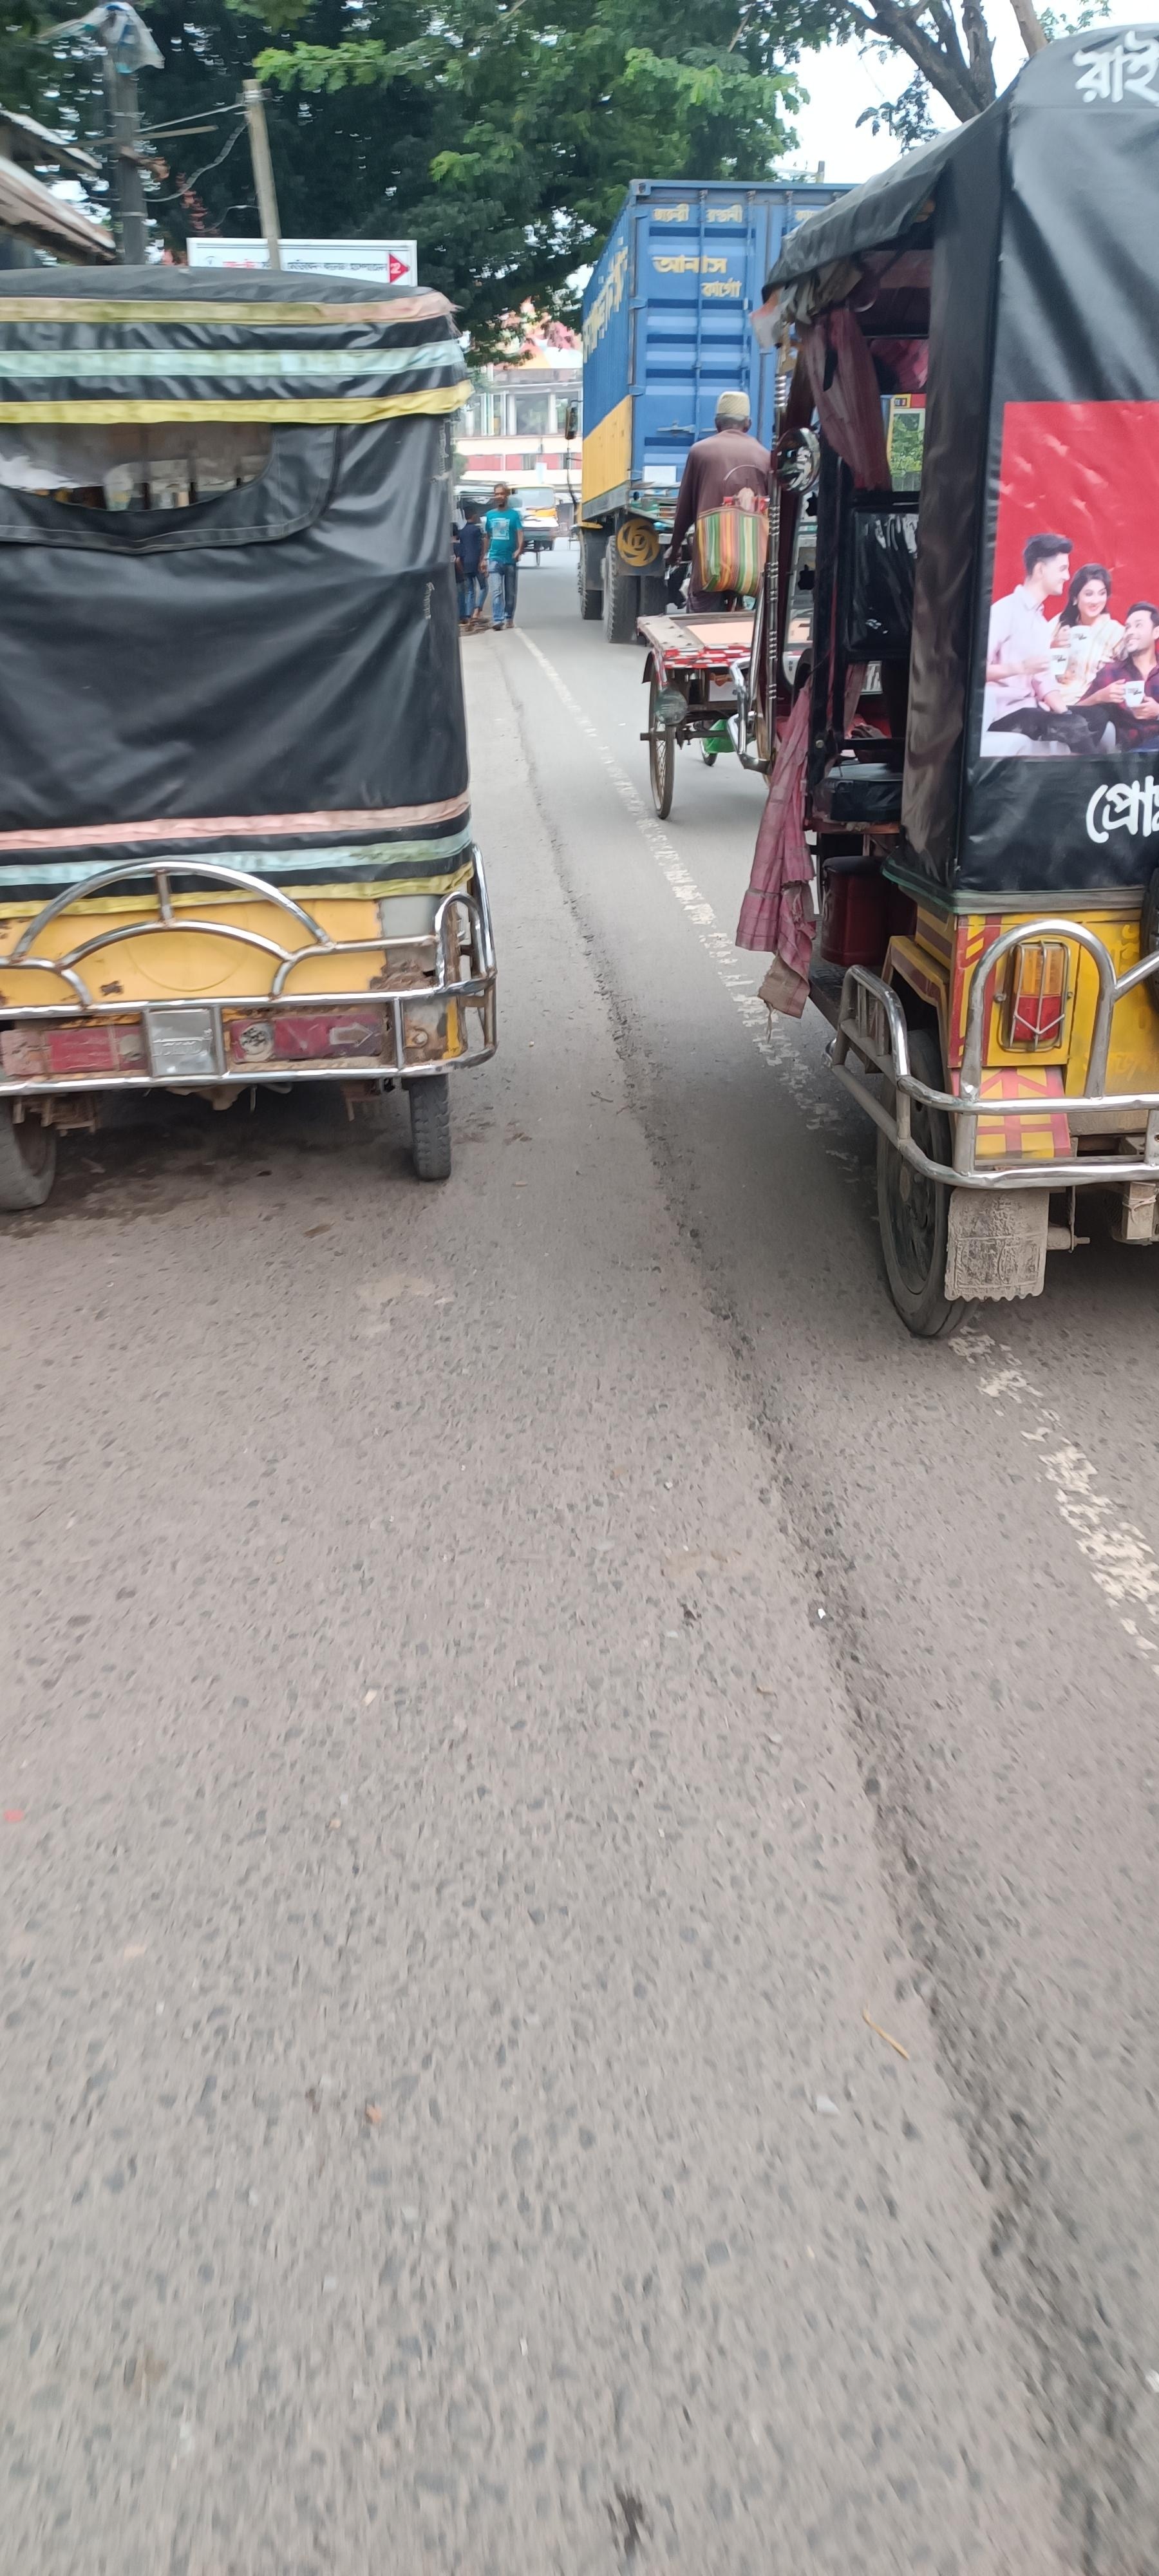Garbage-bin: (667, 389, 775, 611), (1070, 601, 1159, 751), (1047, 563, 1126, 705), (481, 483, 524, 629), (453, 498, 491, 634)
Pothole: (5, 555, 1156, 2571)
Traffic-cone: (0, 212, 561, 1262), (735, 135, 1159, 1372)
